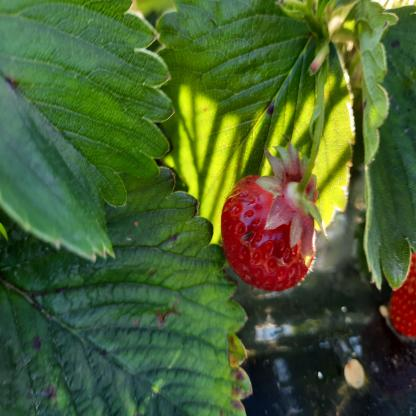ripe: (222, 172, 328, 292), (385, 241, 416, 341)
